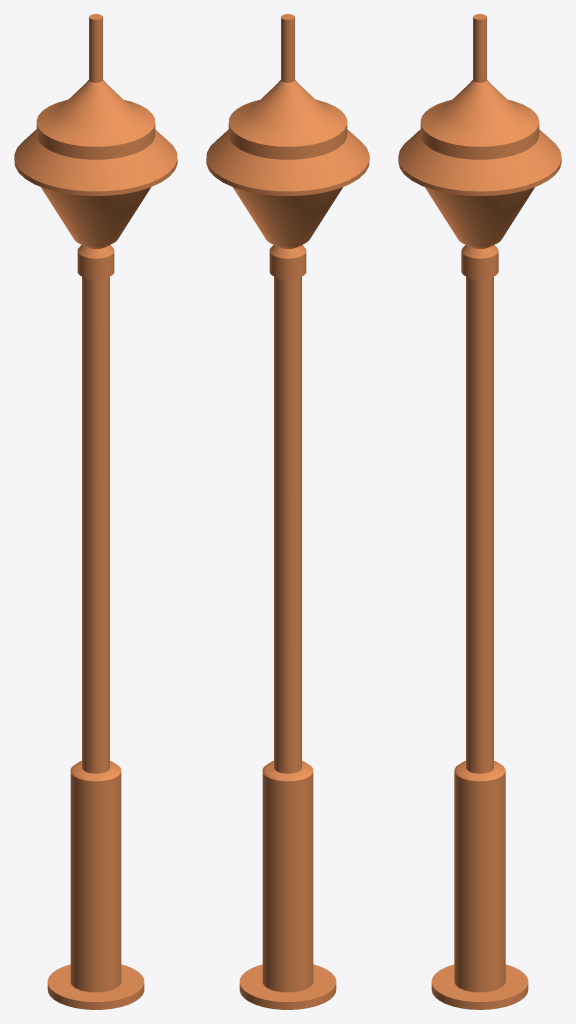
Rendered from 棒球場 - 路燈.fbx.
3 renders of one model, left to right at view 1: azimuth 30°, elevation 25°; view 2: azimuth 150°, elevation 25°; view 3: azimuth 270°, elevation 25°, orthographic.
Visible parts, largest first — view 1: 路燈; view 2: 路燈; view 3: 路燈.
Boxes of the visible parts, <box> form: 路燈: <box>14,14,177,1009</box>; 路燈: <box>206,14,369,1009</box>; 路燈: <box>398,14,561,1009</box>.
Bounding box in the file's own units: 1329 × 8724 × 1329.
